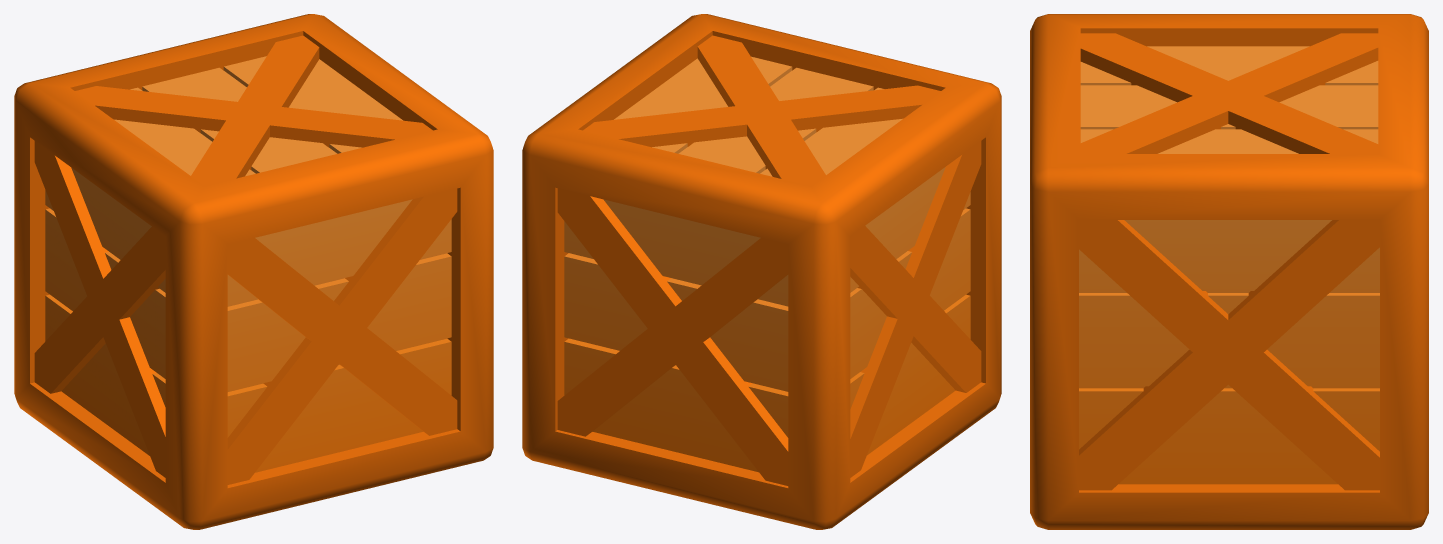
Rendered from Prop_Crate_03.fbx.
The picture shows the model from 3 angles, left to right: view 1: azimuth 30°, elevation 25°; view 2: azimuth 150°, elevation 25°; view 3: azimuth 270°, elevation 25°; orthographic projection. The views are drawn at different scales.
Parts seen in each view (by area): view 1: Prop_Crate_03; view 2: Prop_Crate_03; view 3: Prop_Crate_03.
Part boxes in pixels (left/top/right/bottom): Prop_Crate_03: left=14, top=14, right=493, bottom=529; Prop_Crate_03: left=522, top=14, right=1001, bottom=529; Prop_Crate_03: left=1030, top=14, right=1428, bottom=529.
Size of the model in its own units: 119 by 119 by 119.
